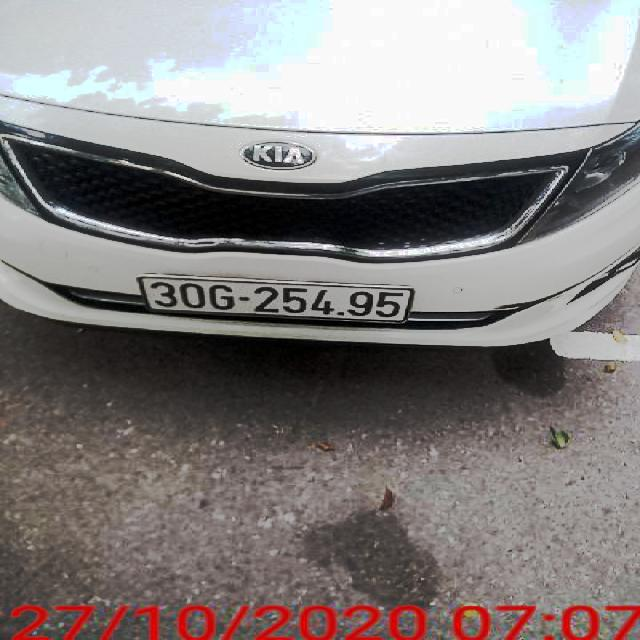license_plate: (144, 276, 414, 325)
